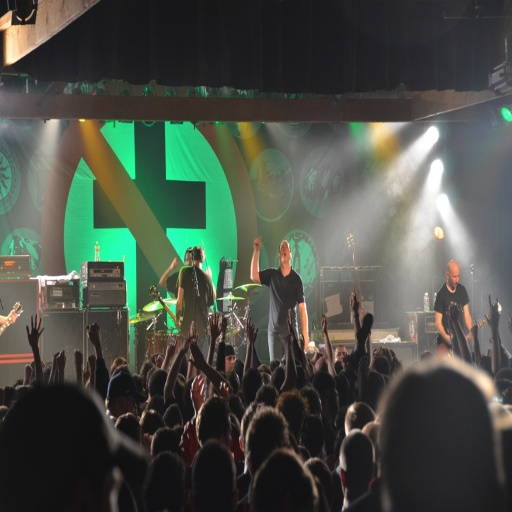hand: (24, 311, 45, 349), (189, 371, 206, 417), (186, 340, 207, 370), (208, 311, 223, 341), (85, 319, 100, 348), (488, 291, 499, 327), (164, 332, 178, 358), (218, 378, 230, 402), (349, 287, 359, 315), (244, 314, 253, 343), (285, 306, 294, 335), (54, 349, 64, 373), (182, 336, 196, 353), (73, 347, 83, 370), (448, 302, 458, 323), (152, 352, 165, 368), (51, 347, 60, 370), (373, 345, 385, 362), (217, 314, 226, 336), (88, 352, 97, 373), (470, 317, 479, 338), (6, 307, 17, 324), (319, 312, 327, 335), (188, 327, 198, 343), (297, 329, 304, 351), (24, 362, 33, 378), (253, 235, 263, 249), (253, 323, 258, 346), (168, 257, 176, 269), (173, 317, 181, 329), (206, 264, 212, 279)
